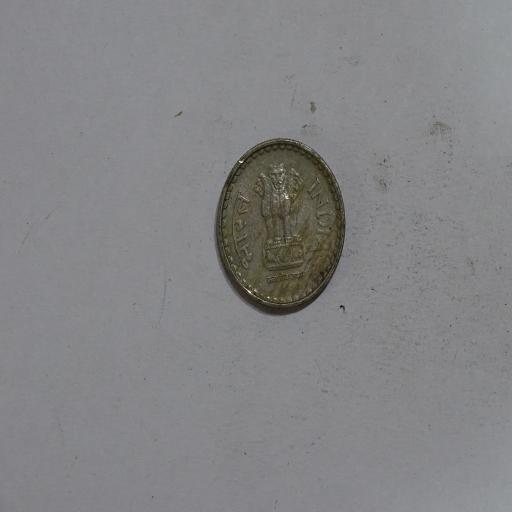rupee5: (213, 138, 345, 312)
